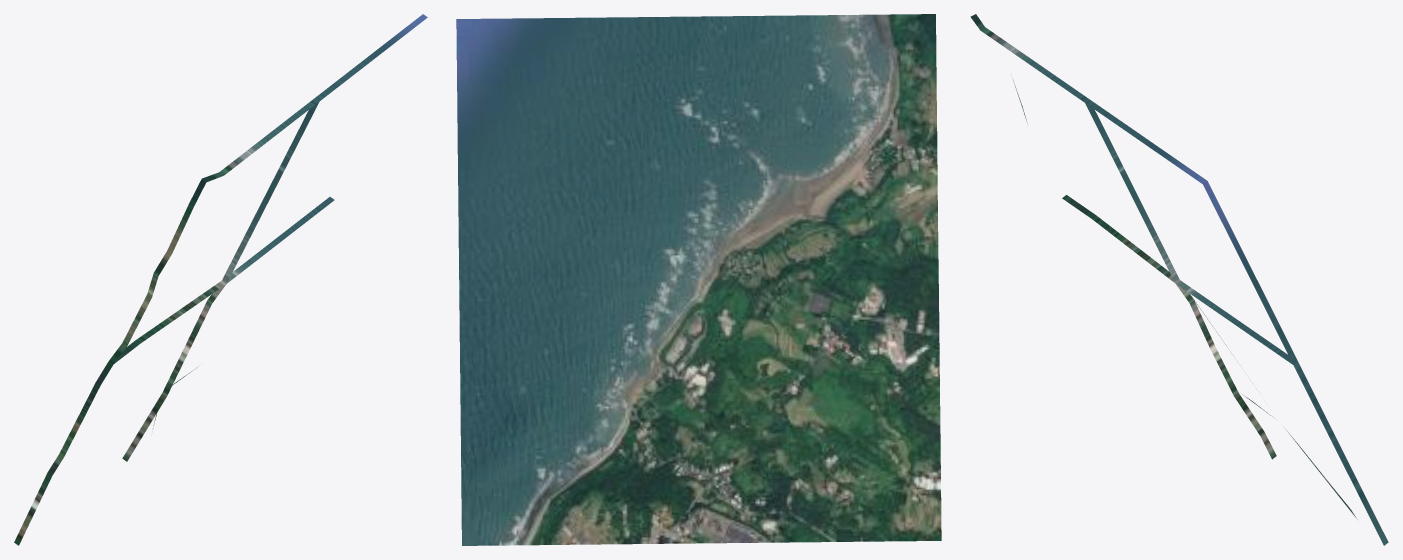
The picture shows the model from 3 angles, left to right: view 1: azimuth 30°, elevation 25°; view 2: azimuth 150°, elevation 25°; view 3: azimuth 270°, elevation 25°; orthographic projection. The views are drawn at different scales.
Size of the model in its own units: 2465 by 2229 by 2046.
Materials: 1 (1 with a texture image).
